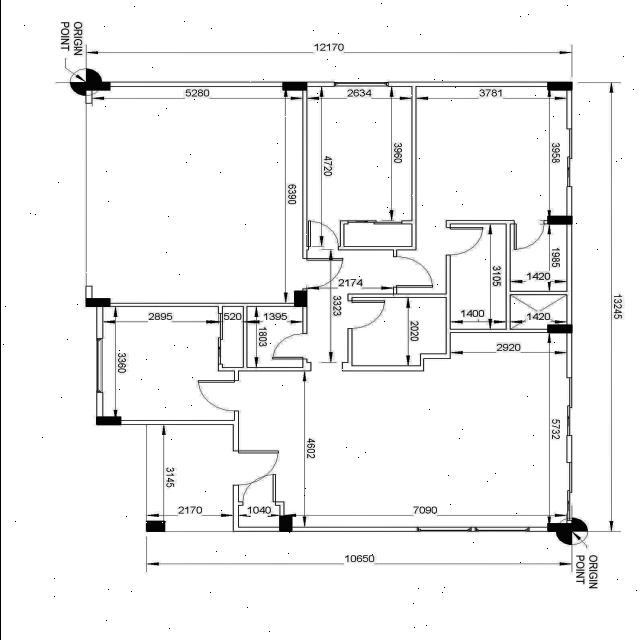Column: (546, 324, 572, 334), (94, 416, 120, 426), (278, 514, 292, 532), (84, 298, 110, 307), (546, 523, 571, 532), (144, 521, 164, 532), (546, 82, 572, 90), (546, 216, 572, 224), (84, 82, 110, 90), (293, 291, 306, 307), (282, 82, 306, 90)
Door: (232, 450, 278, 486), (392, 256, 432, 288), (197, 380, 238, 411), (444, 223, 482, 256), (302, 258, 342, 289), (237, 474, 275, 506), (508, 220, 546, 250), (346, 300, 384, 328), (306, 220, 338, 250), (272, 334, 306, 359)
Sliding Door: (566, 377, 572, 436), (566, 128, 572, 186), (566, 462, 572, 520), (346, 220, 402, 224), (218, 314, 222, 364)
Window: (96, 338, 102, 392), (416, 526, 470, 532), (474, 526, 528, 532), (333, 82, 388, 87)
